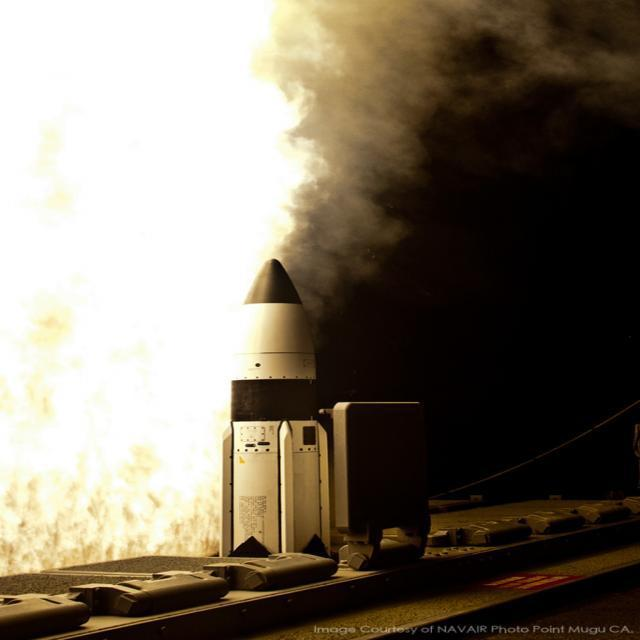Missile: (211, 257, 336, 575), (271, 404, 302, 566)
